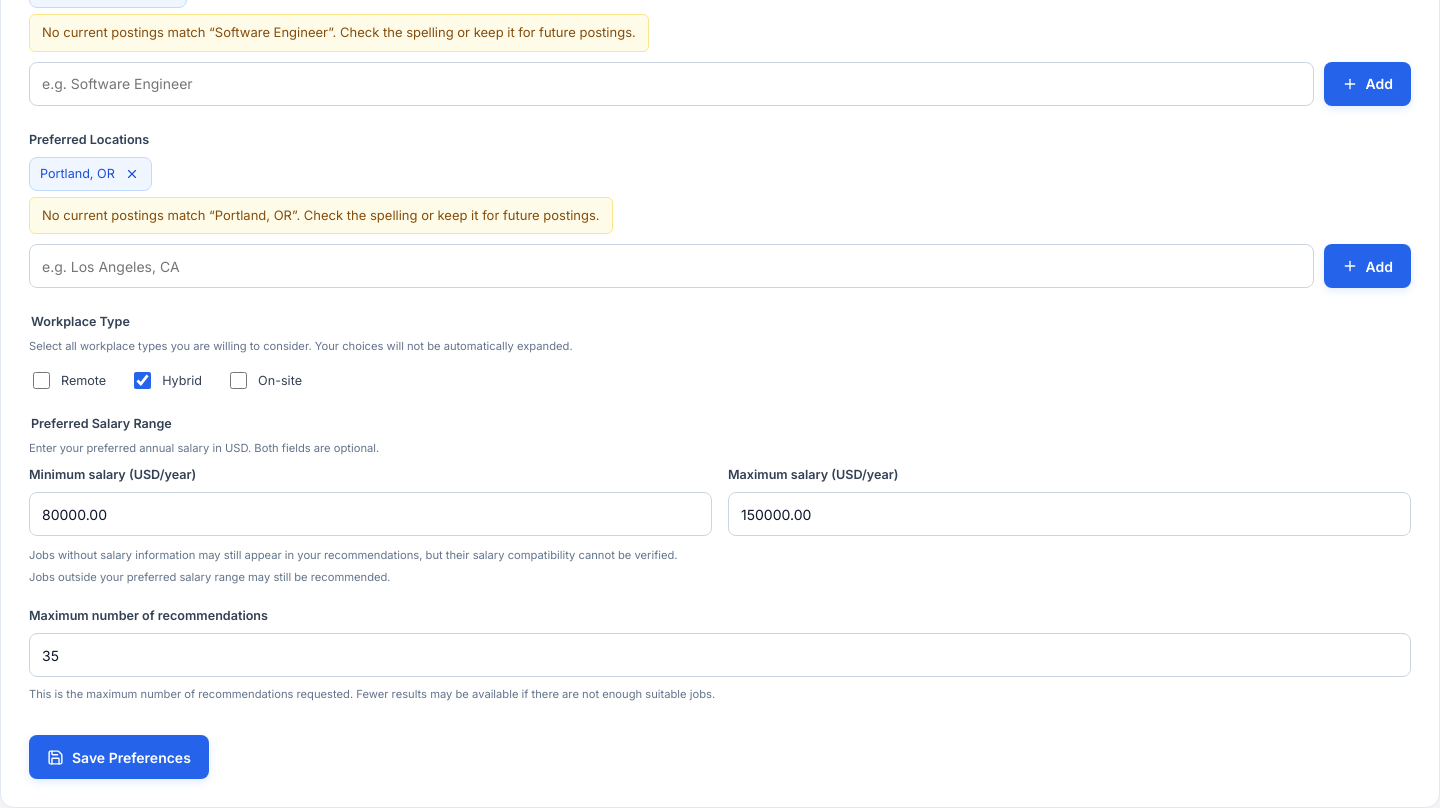
SearchPreferencesForm (JH-021) › allows users to save unmatched titles and locations
(page scrolled)
Expected: the text "No current postings match “Software Engineer”" is shown, left=29, top=14, right=649, bottom=52
Expected: the text "No current postings match “Portland, OR”" is shown, left=29, top=197, right=613, bottom=234
Click the button "Save Preferences" at (119, 757), box left=29, top=735, right=209, bottom=779
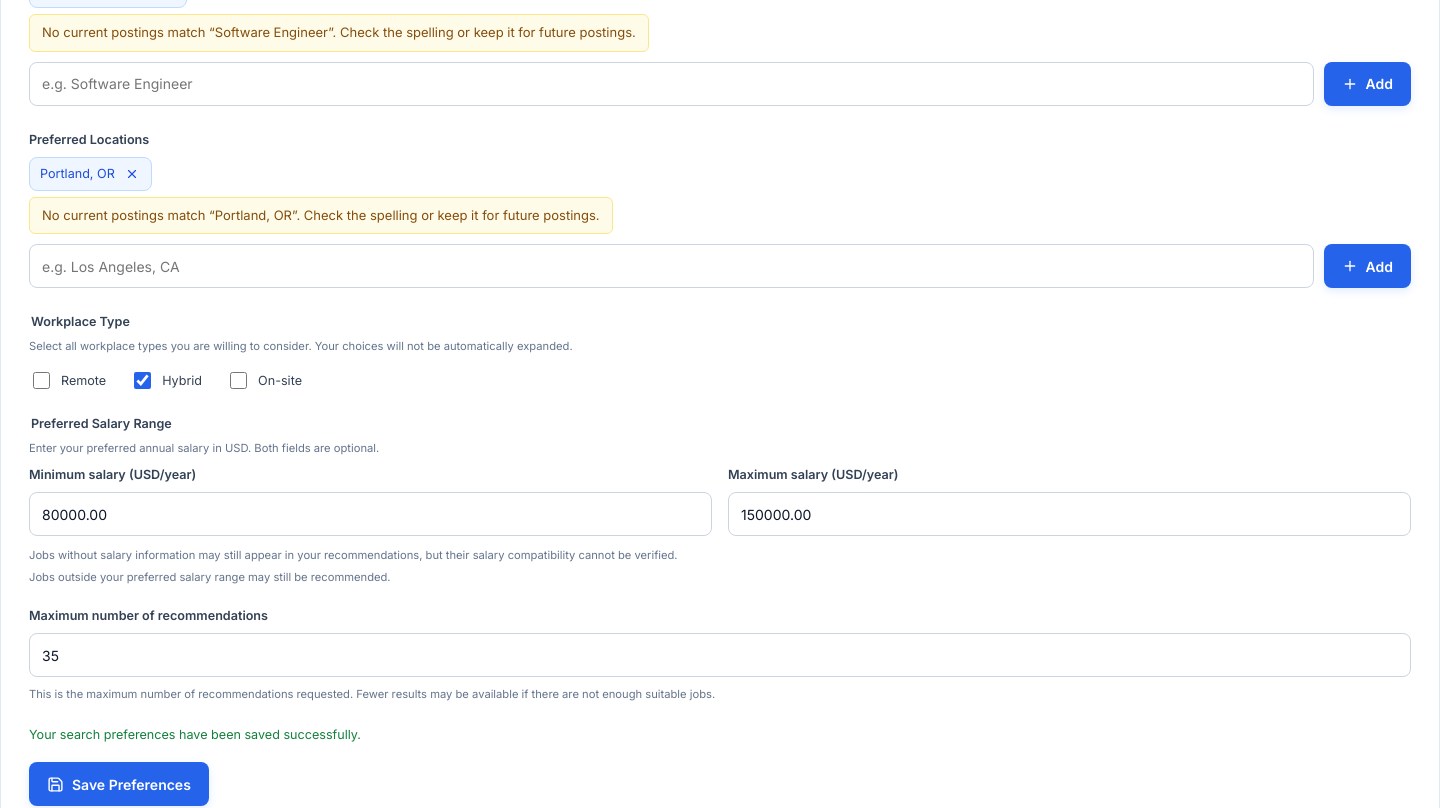
Expected: the text "No current postings match “Software Engineer”" is shown, left=29, top=14, right=649, bottom=52
Result: the text "Your search preferences have been saved successfully." is shown at left=29, top=727, right=361, bottom=742
